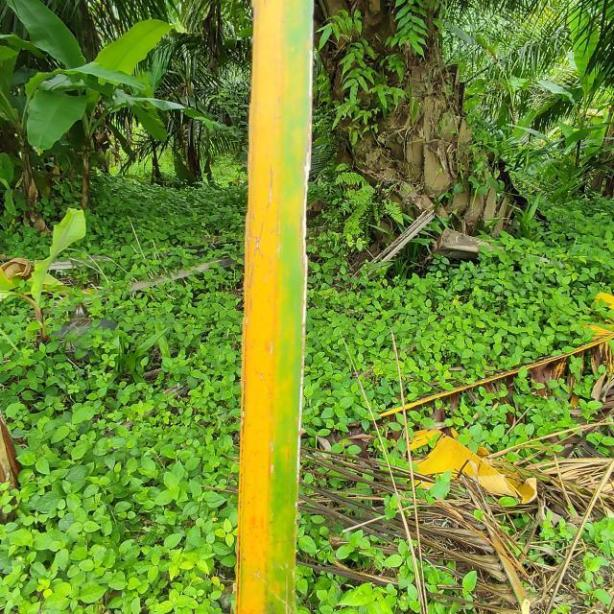Megnesium: (233, 0, 314, 614)
